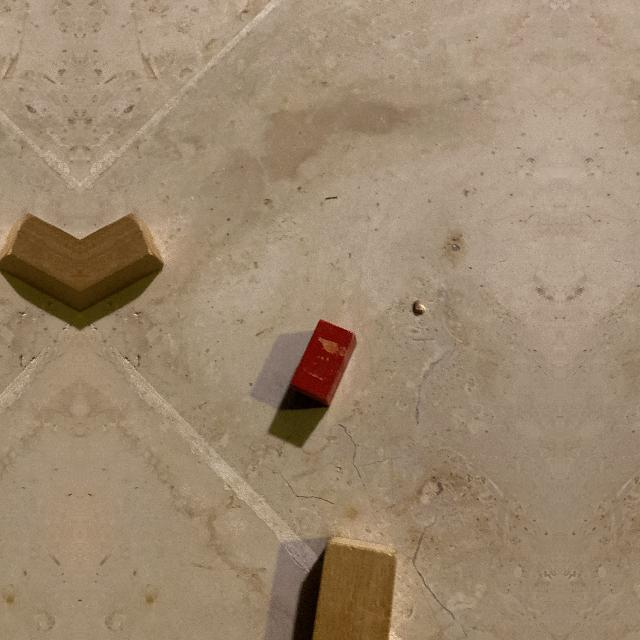jenga: (311, 537, 397, 640), (80, 213, 164, 313), (0, 213, 80, 313)
red block: (289, 319, 357, 407)
